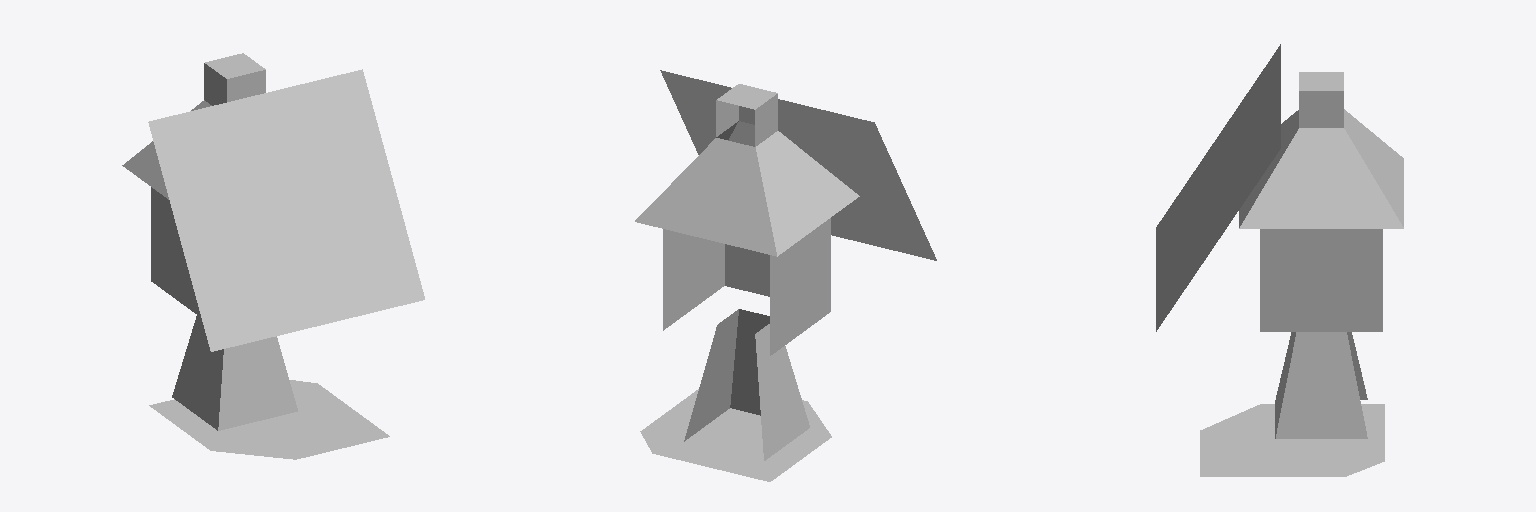
Rendered from Street Lamp (Violet City).obj.
3 renders of one model, left to right at view 1: azimuth 30°, elevation 25°; view 2: azimuth 150°, elevation 25°; view 3: azimuth 270°, elevation 25°, orthographic.
Visible parts, largest first — view 1: polygon2, polygon1, polygon0, polygon3; view 2: polygon3, polygon2, polygon1, polygon0; view 3: polygon3, polygon2, polygon0, polygon1.
Boxes of the visible parts, box(x1,y1,x2,y2) form: polygon2: box(148, 69, 424, 351); polygon1: box(172, 315, 297, 430); polygon0: box(149, 380, 389, 459); polygon3: box(122, 53, 265, 316); polygon3: box(635, 84, 859, 355); polygon2: box(660, 70, 936, 260); polygon1: box(684, 309, 809, 460); polygon0: box(640, 389, 831, 481); polygon3: box(1239, 72, 1403, 331); polygon2: box(1156, 44, 1280, 331); polygon0: box(1200, 404, 1384, 476); polygon1: box(1275, 332, 1367, 438).
Size of the model in its own units: 20.4 by 31.7 by 20.46.